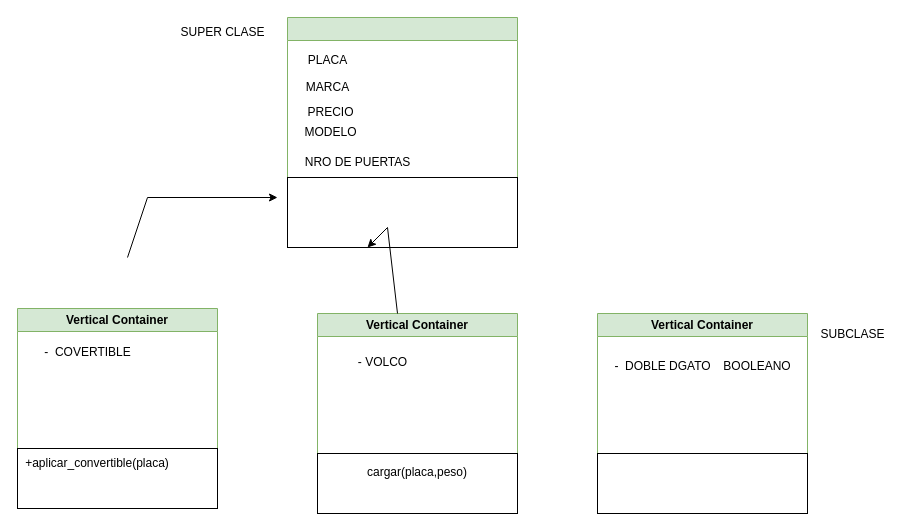
This 915x531 diagram has some shape labels left out. Each missing label, with the box of its shape:
comprar(placa,precio):double descto: (286, 176, 518, 248)
VEHICULO: (286, 16, 518, 248)
